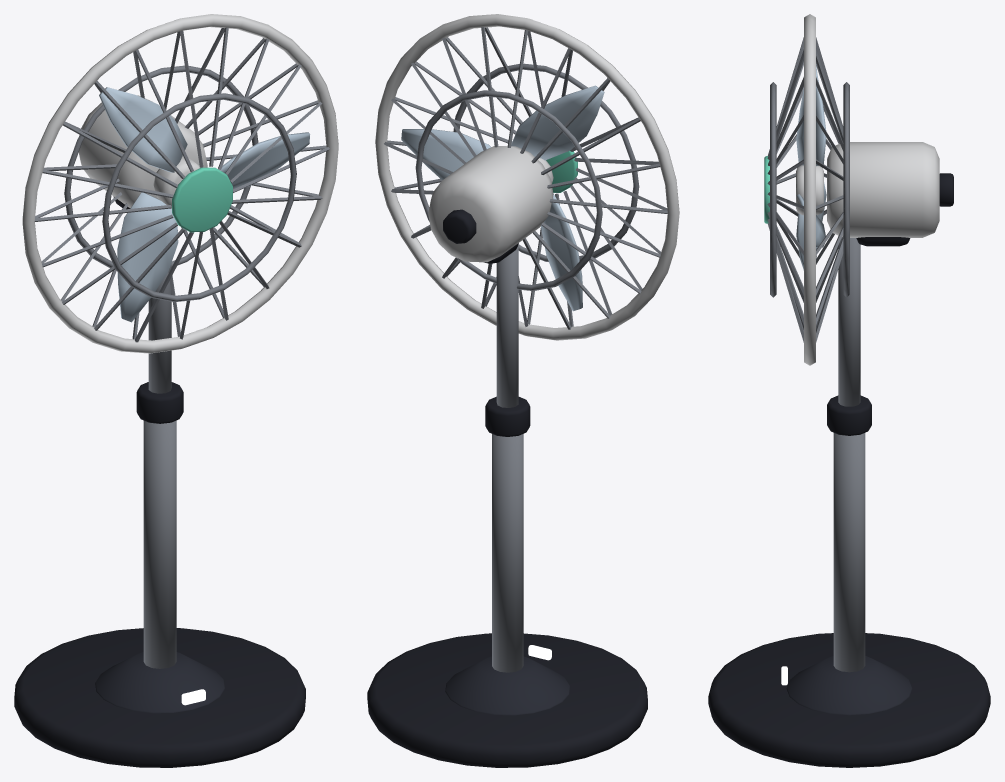
Rendered from charge-fan.glb.
The picture shows the model from 3 angles, left to right: view 1: azimuth 30°, elevation 25°; view 2: azimuth 150°, elevation 25°; view 3: azimuth 270°, elevation 25°; orthographic projection. The views are drawn at different scales.
Visible parts, largest first — view 1: body.003, blades; view 2: body.003, blades; view 3: body.003, blades.
Boxes of the visible parts, x1=… form: body.003: x1=14, y1=14, x2=338, y2=767; blades: x1=99, y1=87, x2=310, y2=322; body.003: x1=367, y1=14, x2=679, y2=767; blades: x1=401, y1=85, x2=604, y2=311; body.003: x1=708, y1=14, x2=990, y2=767; blades: x1=796, y1=64, x2=826, y2=270.
Bounding box in the file's own units: 0.624 × 1.33 × 0.5.
